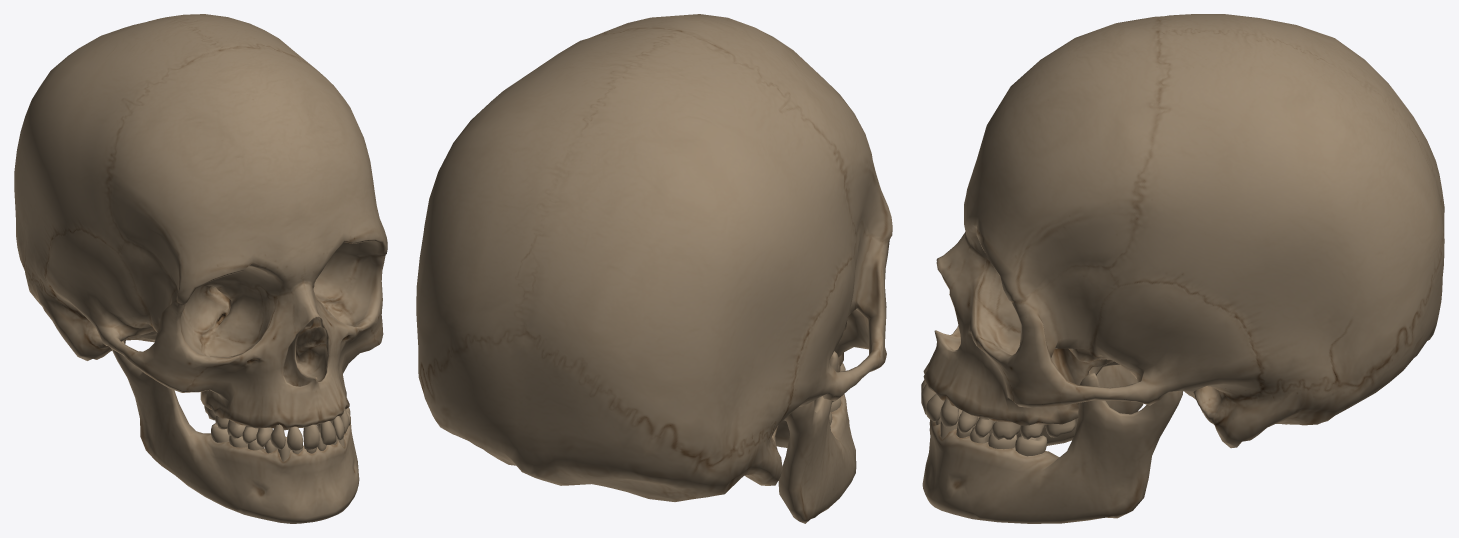
Rendered from Human_Arm_Bones.FBX.
3 renders of one model, left to right at view 1: azimuth 30°, elevation 25°; view 2: azimuth 150°, elevation 25°; view 3: azimuth 270°, elevation 25°, orthographic. The views are drawn at different scales.
Parts seen in each view (by area): view 1: Skull, Teeth; view 2: Skull; view 3: Skull, Teeth.
Boxes of the visible parts, x1,y1,x2,y2 form: Skull: (14, 14, 387, 523); Teeth: (204, 405, 350, 461); Skull: (416, 14, 892, 523); Skull: (922, 14, 1444, 523); Teeth: (921, 380, 1075, 456).
Bounding box in the file's own units: 15.97 × 22.39 × 22.91.
Materials: 2 (1 with a texture image).
